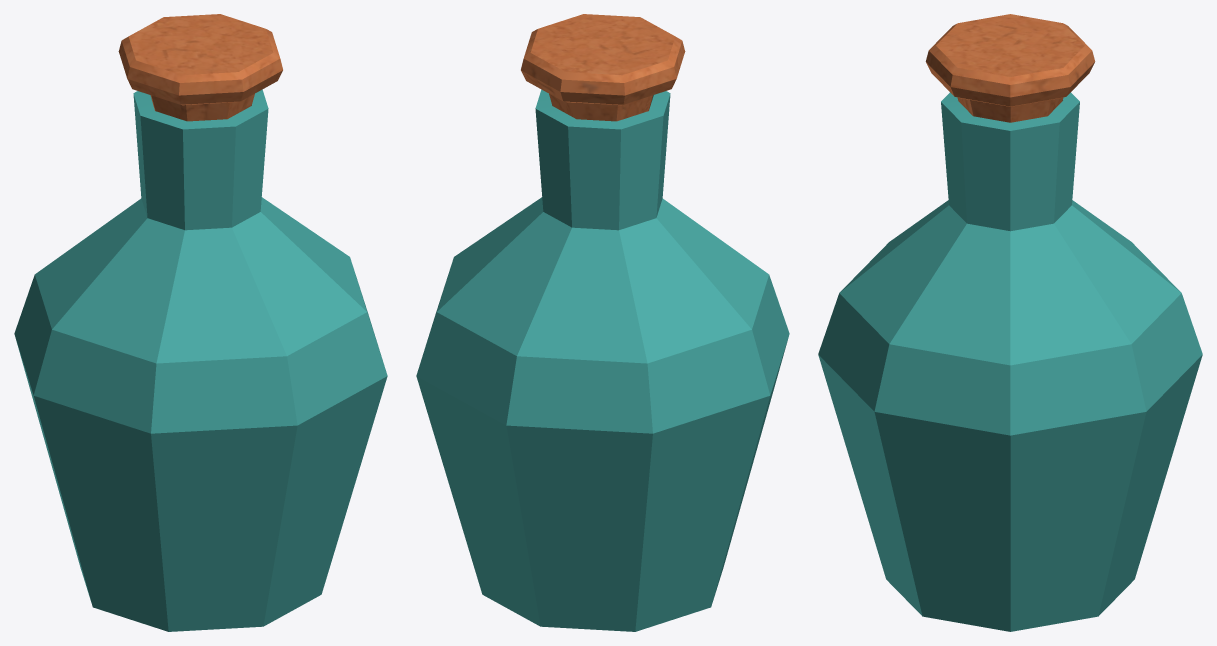
Rendered from Bottle_02_001.fbx.
3 views of the same model, side by side, from view 1: azimuth 30°, elevation 25°; view 2: azimuth 150°, elevation 25°; view 3: azimuth 270°, elevation 25° (orthographic).
Parts seen in each view (by area): view 1: Bottle_04_C_T_001; view 2: Bottle_04_C_T_001; view 3: Bottle_04_C_T_001.
Boxes of the visible parts, x1,y1,x2,y2 form: Bottle_04_C_T_001: [14, 14, 387, 631]; Bottle_04_C_T_001: [416, 14, 789, 631]; Bottle_04_C_T_001: [818, 14, 1202, 631].
Size of the model in its own units: 16.06 by 24.66 by 16.06.
